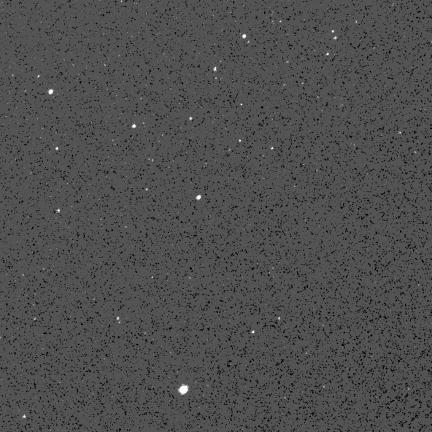blob: (179, 385, 188, 394), (196, 195, 202, 201), (49, 90, 53, 94), (57, 209, 61, 213), (189, 117, 193, 121), (133, 124, 136, 128), (243, 34, 246, 38), (239, 140, 242, 143), (327, 53, 330, 56), (214, 67, 216, 71)
